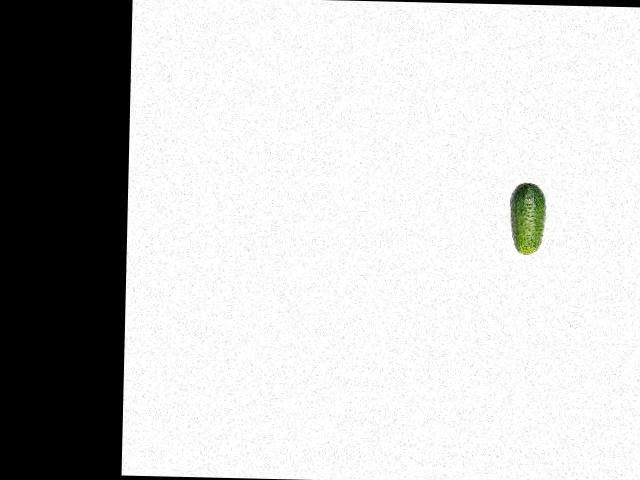cucumber: (509, 181, 547, 255)
